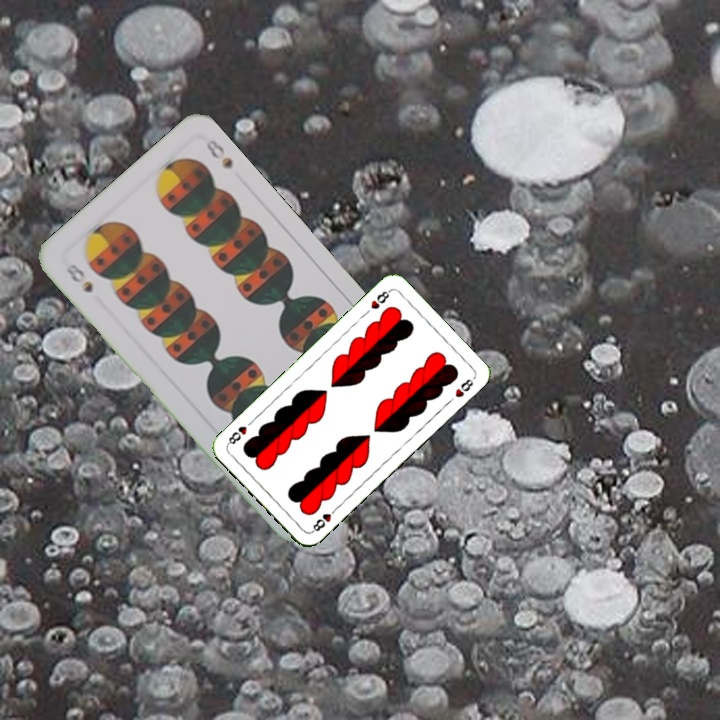H8: (307, 503, 340, 535), (367, 286, 393, 312)
S8: (61, 259, 96, 296)
